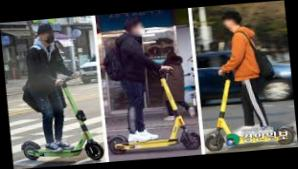nonhelmet: (193, 7, 298, 153), (97, 13, 201, 156), (9, 20, 106, 166)
